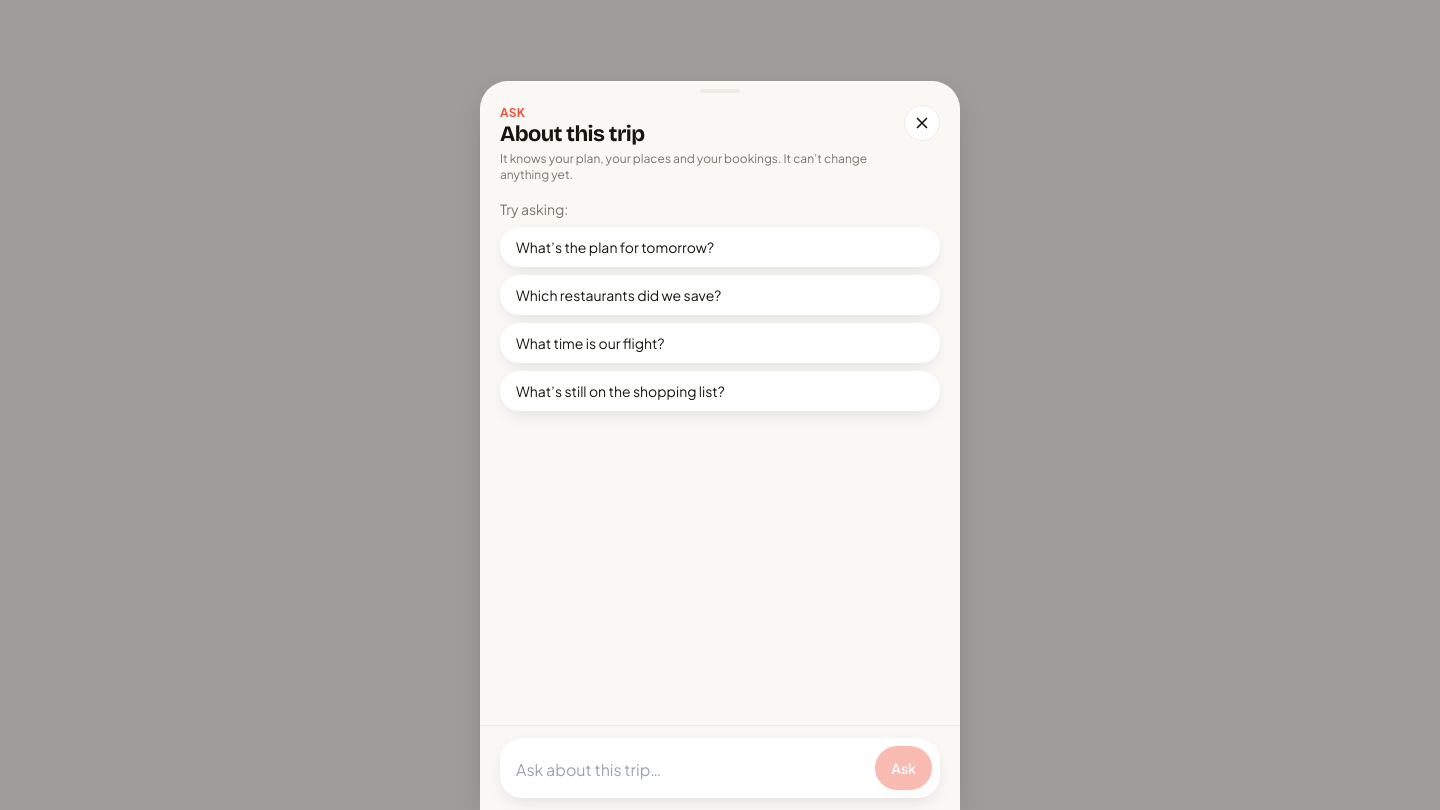
Scenario: asking a question › says when the answer is unfinished
This screenshot has width=1440, height=810.
Step 1. Type "Something long" into the text box labelled "Ask about this trip" → (688, 770), box [508,750,867,790]
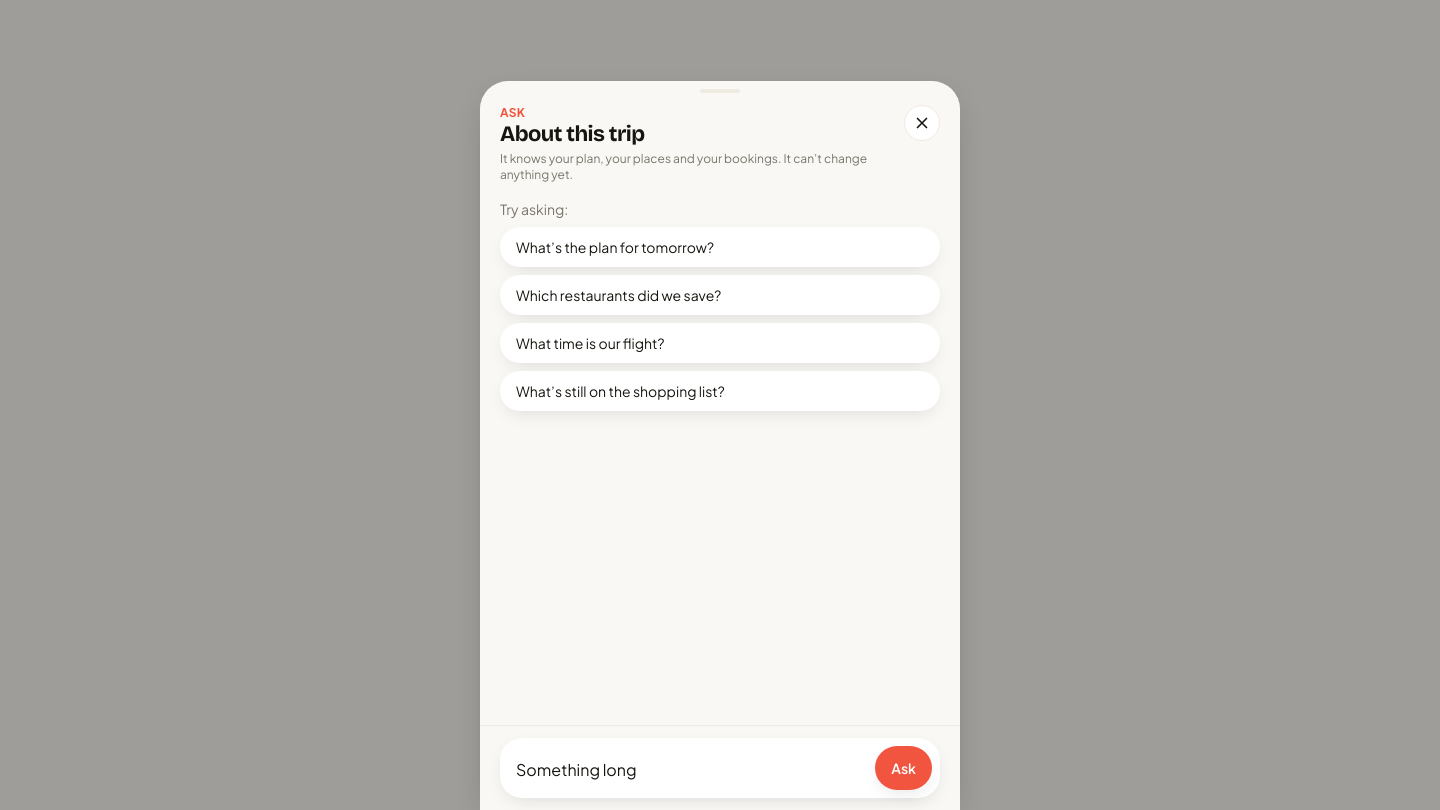
Step 2. Click the button "Ask" → (904, 768), box [875,746,932,790]
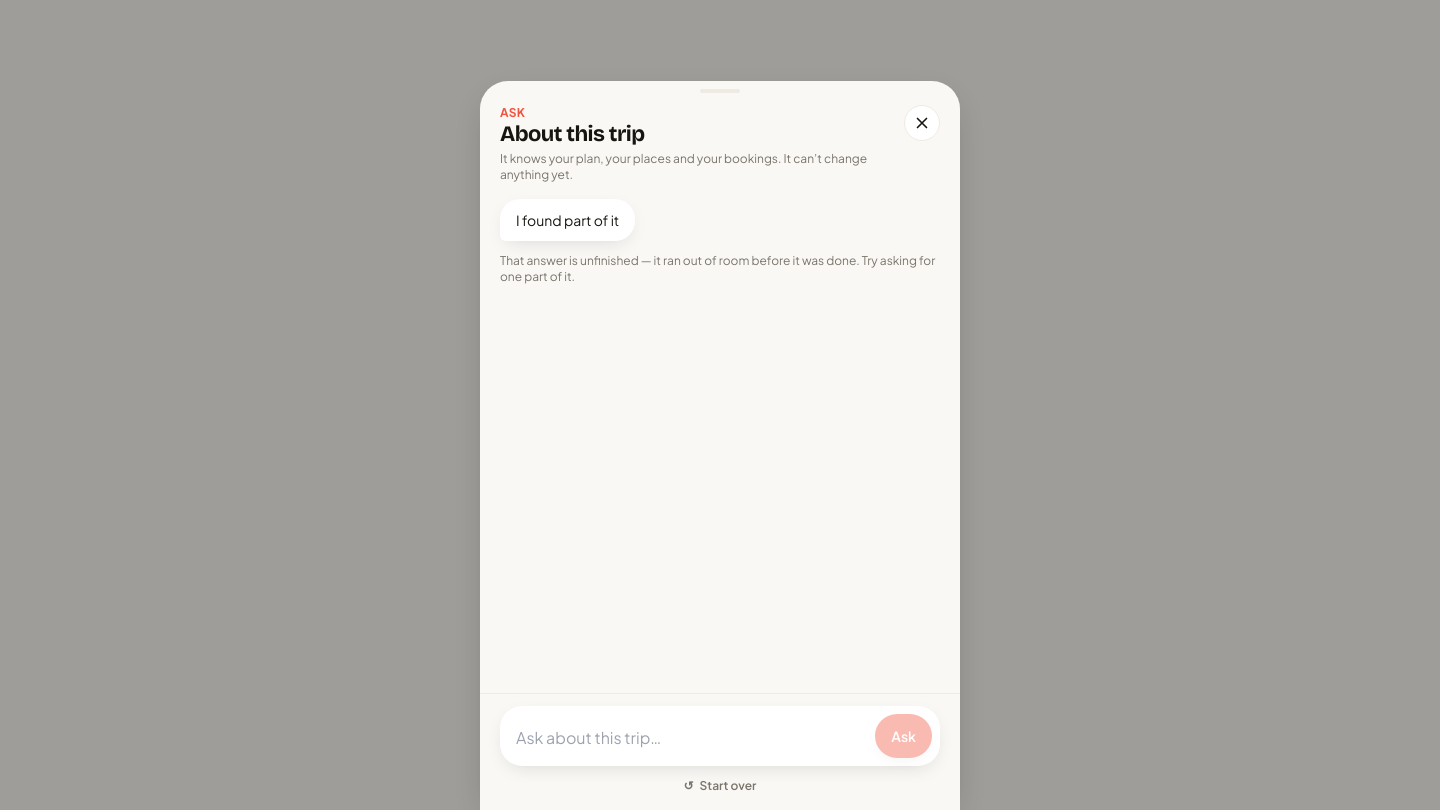
Expected: the text "unfinished" is shown, [500,253,935,284]
